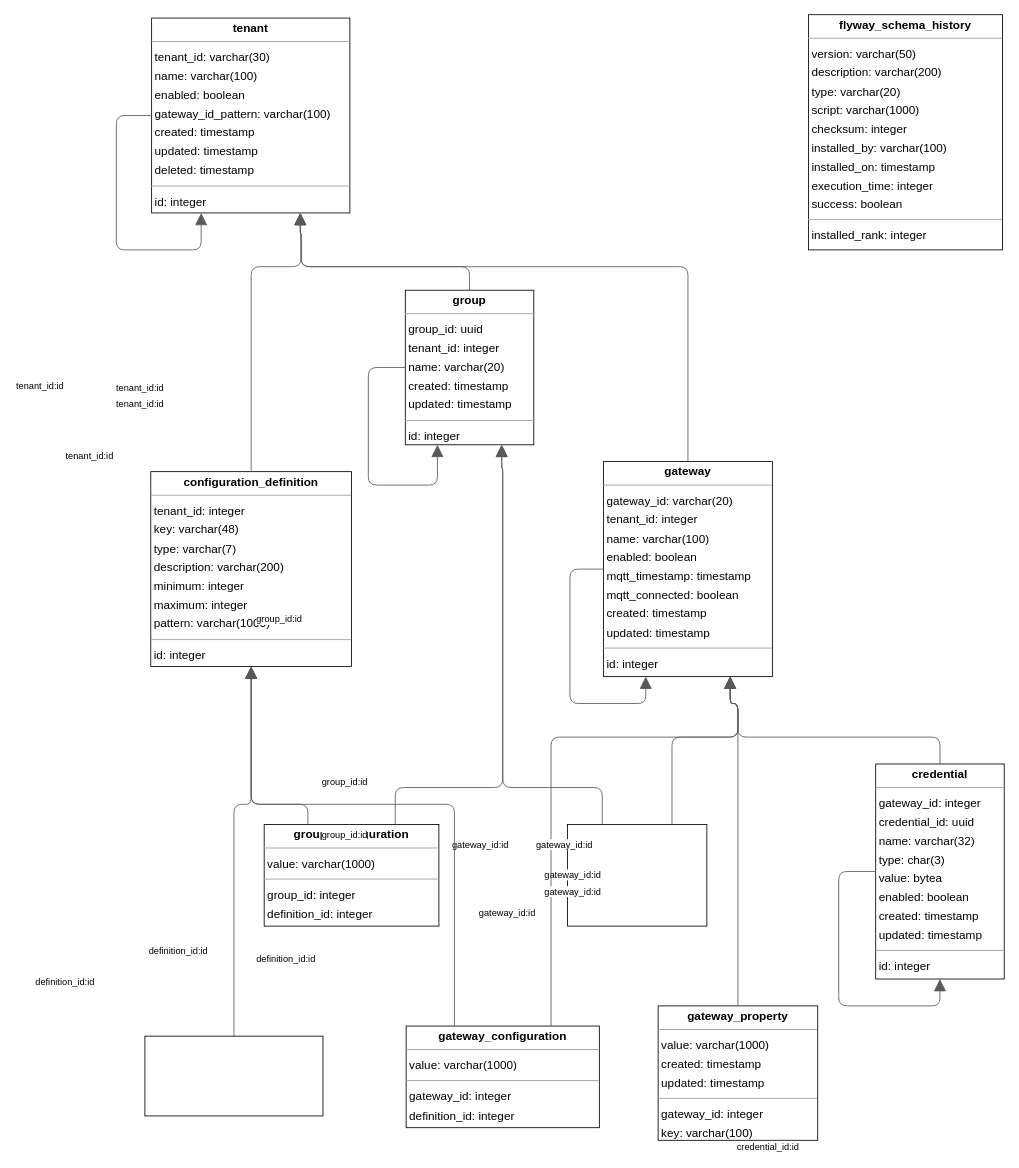
The diagram is 1019 pixels wide and 1168 high, and some of its shapes have lost their labels. Here are the shapes that lost their labels. From the top down, the box of each, then its label:
(567, 824, 707, 926): gateway_group created: timestamp gateway_id: integer group_id: integer
(144, 1035, 323, 1116): tenant_configuration value: varchar(1000) definition_id: integer
